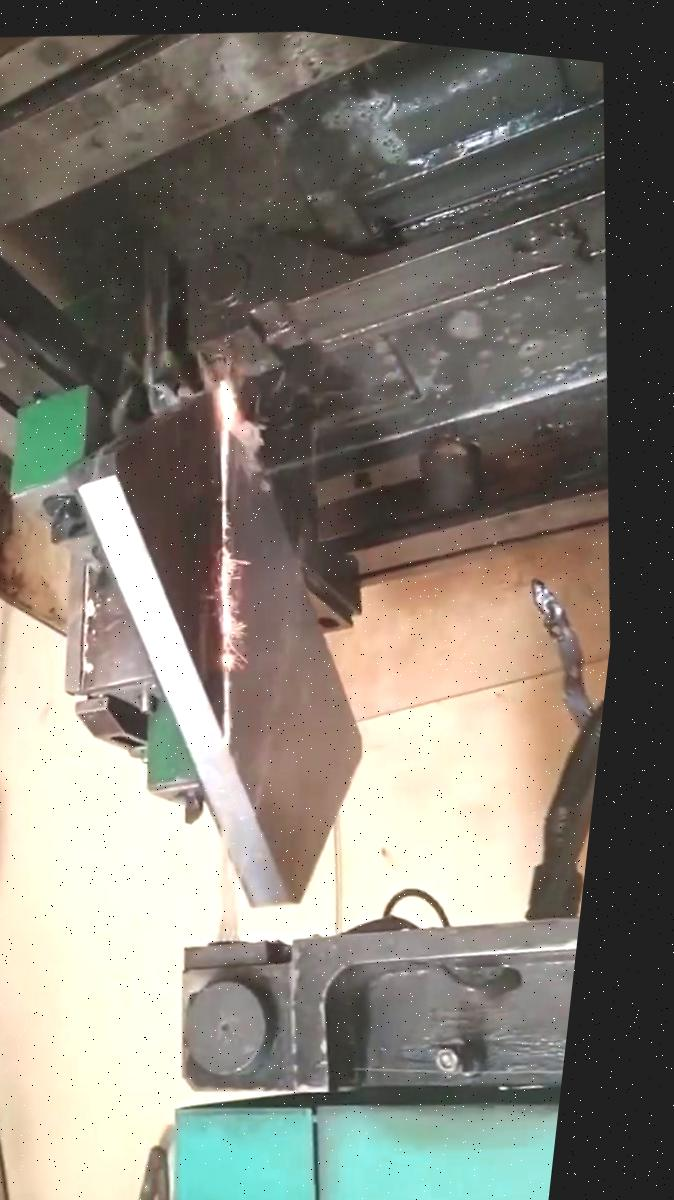fire: (123, 327, 313, 785)
